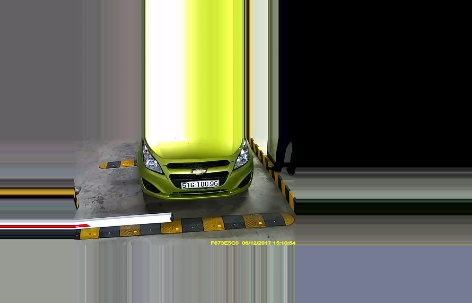plate: (181, 180, 219, 188)
